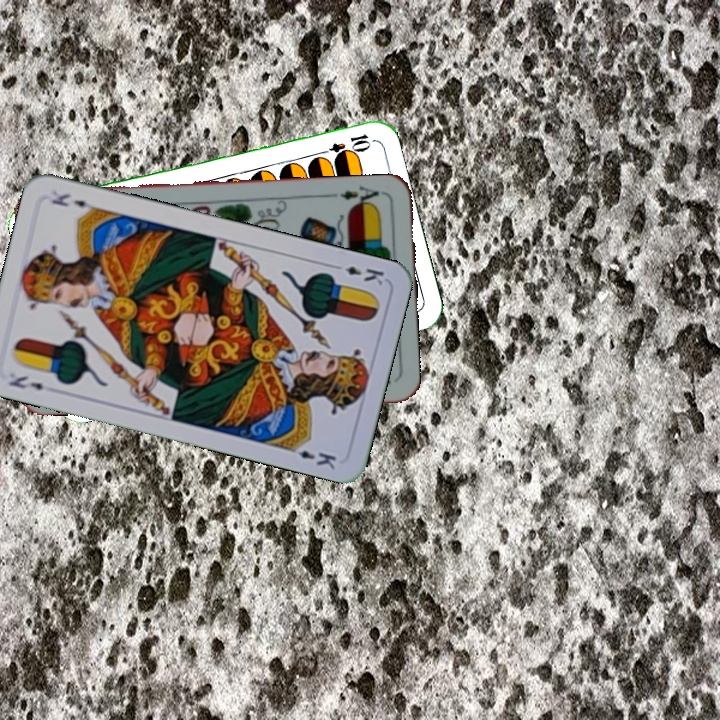E10: (314, 130, 372, 158)
EA: (336, 182, 387, 210)
EK: (328, 260, 387, 288), (4, 371, 46, 393)
